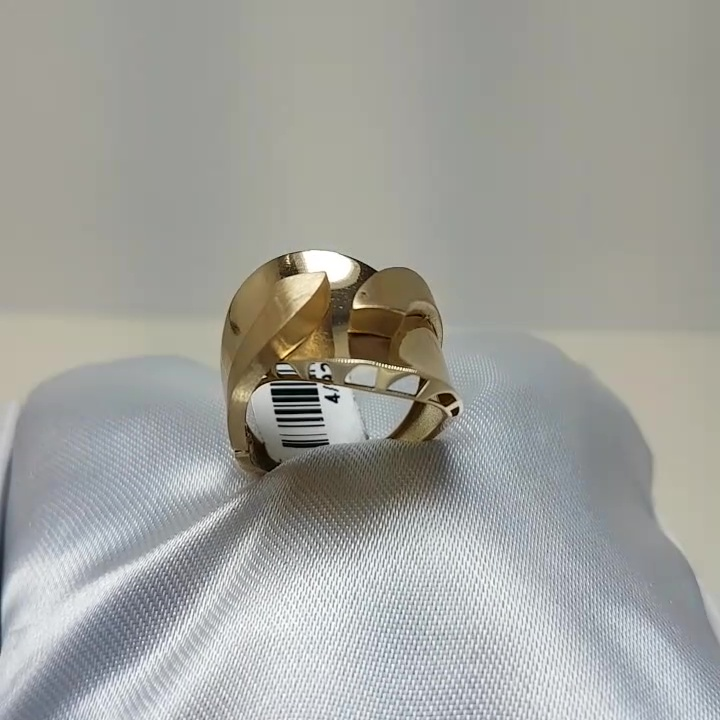Ring 4: (185, 229, 464, 510)
